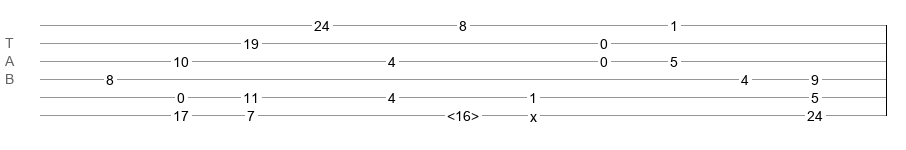0: (177, 90, 185, 100), (600, 54, 608, 64), (600, 36, 608, 46)
1: (529, 90, 537, 100), (670, 18, 678, 28)
10: (173, 54, 189, 64)
11: (243, 90, 259, 100)
17: (173, 108, 189, 118)
19: (243, 36, 259, 46)
24: (314, 18, 330, 28), (807, 108, 823, 118)
4: (388, 90, 396, 100), (388, 54, 396, 64), (741, 72, 749, 82)
5: (670, 54, 678, 64), (811, 90, 819, 100)
7: (247, 108, 255, 118)
8: (106, 72, 114, 82), (459, 18, 467, 28)
9: (811, 72, 819, 82)
harmonic: (447, 108, 479, 118)
x: (530, 109, 537, 117)
